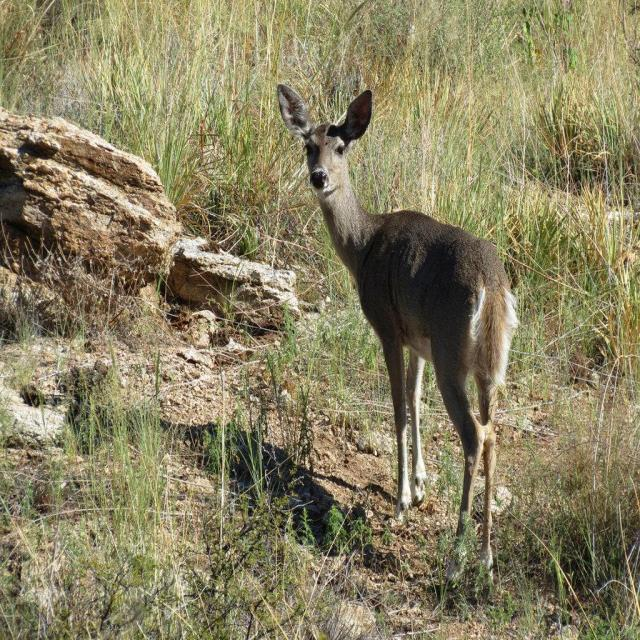Deer: (281, 84, 518, 601)
